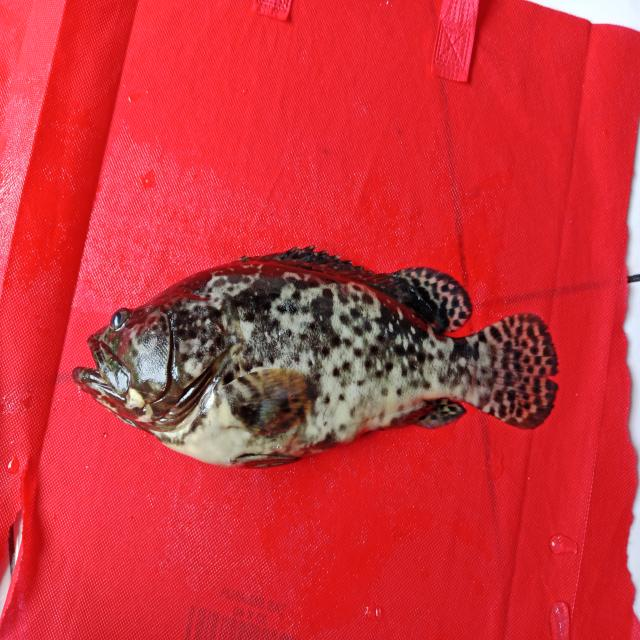ikan: (68, 227, 576, 475)
